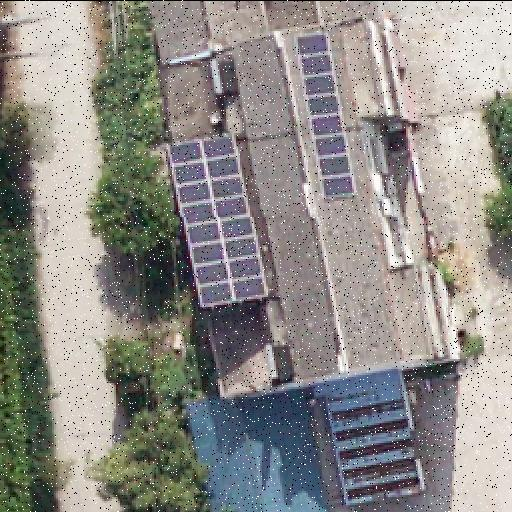solar-panel: (171, 130, 269, 306), (292, 31, 356, 201)
